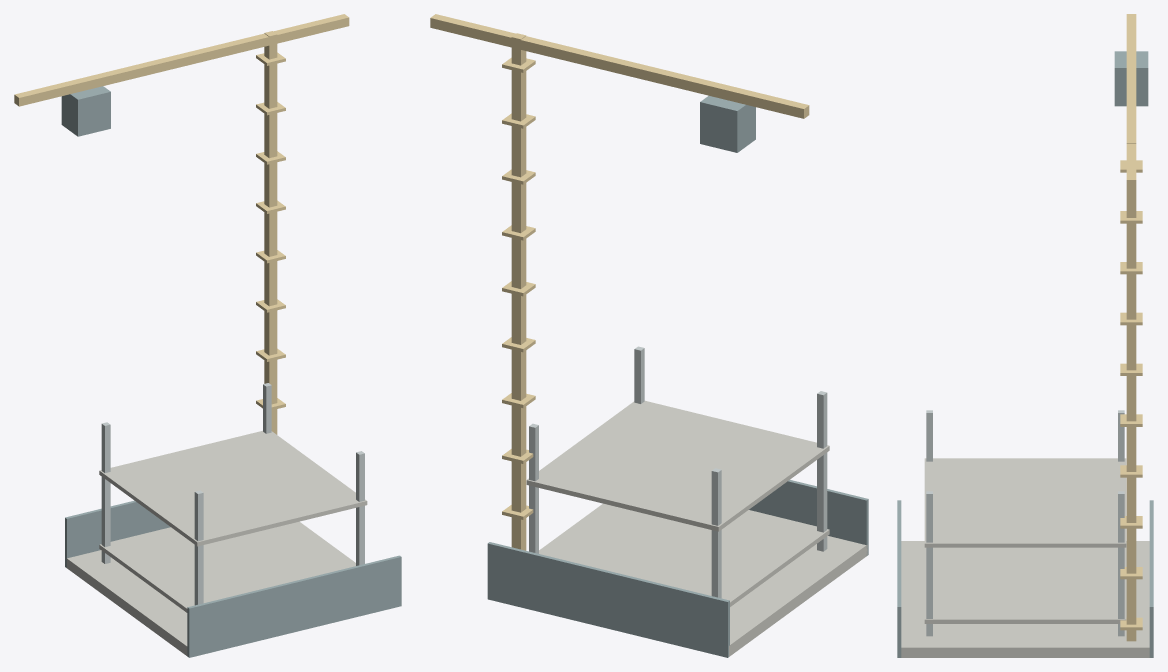
The model's file is remaster_site_1_1.glb.
The picture shows the model from 3 angles, left to right: view 1: azimuth 30°, elevation 25°; view 2: azimuth 150°, elevation 25°; view 3: azimuth 270°, elevation 25°; orthographic projection. The views are drawn at different scales.
Visible parts, largest first — view 1: remaster_site_1_1 stone, remaster_site_1_1 roof, remaster_site_1_1 gold, remaster_site_1_1 metal; view 2: remaster_site_1_1 stone, remaster_site_1_1 roof, remaster_site_1_1 gold, remaster_site_1_1 metal; view 3: remaster_site_1_1 stone, remaster_site_1_1 gold, remaster_site_1_1 roof, remaster_site_1_1 metal.
Part boxes in pixels (<box>): remaster_site_1_1 stone: <box>67,430,367,656</box>; remaster_site_1_1 roof: <box>61,86,401,657</box>; remaster_site_1_1 gold: <box>14,14,349,434</box>; remaster_site_1_1 metal: <box>101,383,364,605</box>; remaster_site_1_1 stone: <box>526,400,867,656</box>; remaster_site_1_1 roof: <box>487,96,868,657</box>; remaster_site_1_1 gold: <box>430,14,809,550</box>; remaster_site_1_1 metal: <box>529,346,827,598</box>; remaster_site_1_1 stone: <box>901,458,1149,657</box>; remaster_site_1_1 gold: <box>1120,14,1142,641</box>; remaster_site_1_1 roof: <box>897,51,1153,657</box>; remaster_site_1_1 metal: <box>926,410,1124,636</box>.
Bounding box in the file's own units: 14 × 20 × 9.14.
